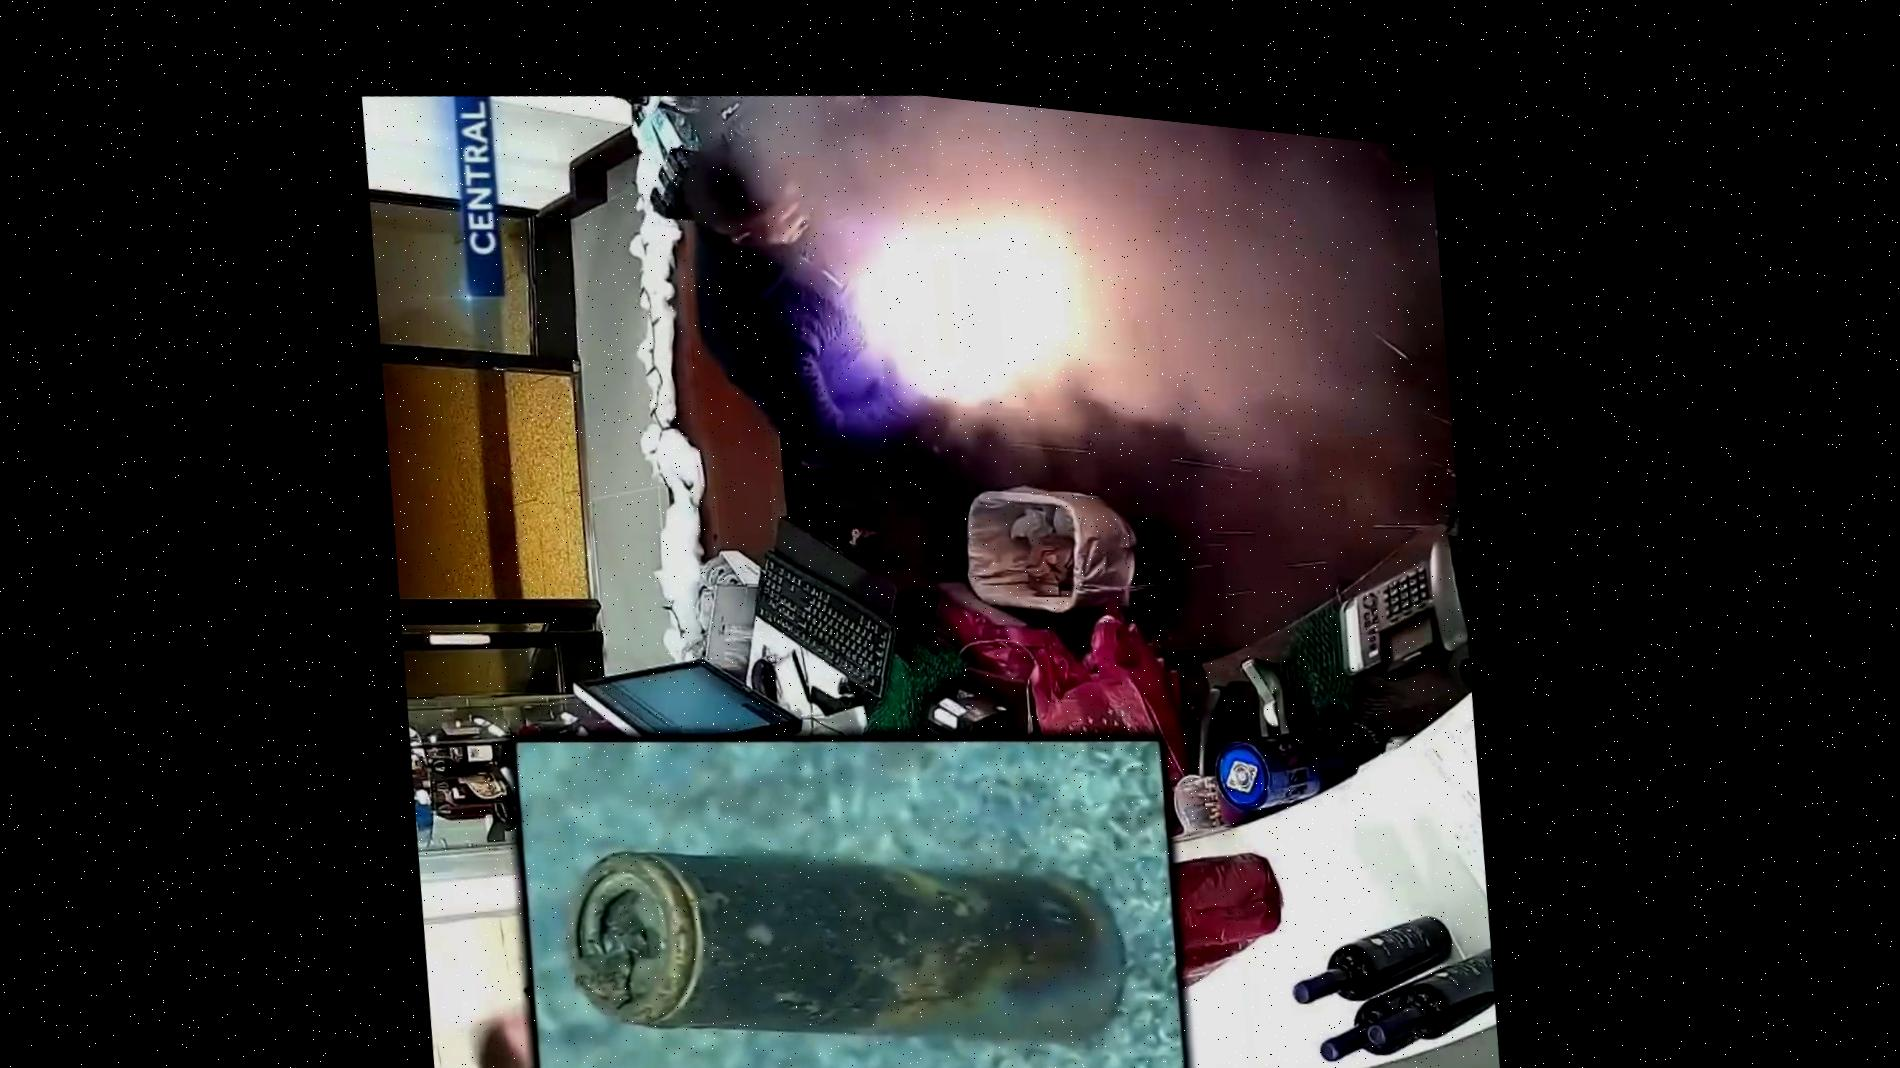fire: (689, 107, 1424, 492)
